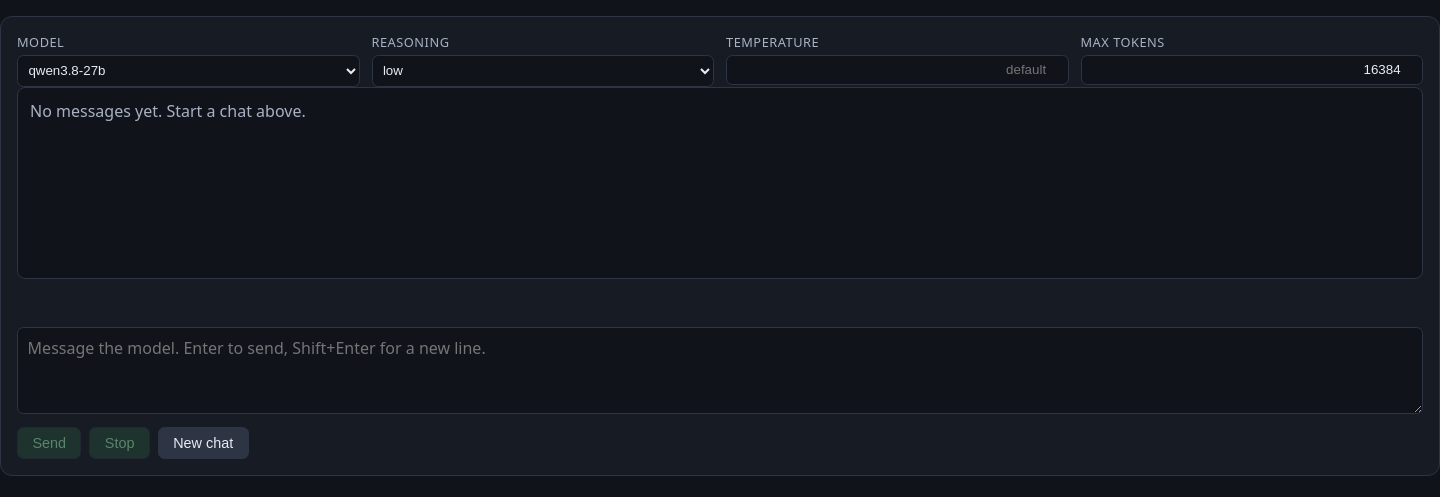
Scenario: ChatPlayground › recovers from a non-SSE validation error and clears generating
Replace the text in the text box with test id "prompt-input" with "Go": (720, 370) [17,327,1423,414]
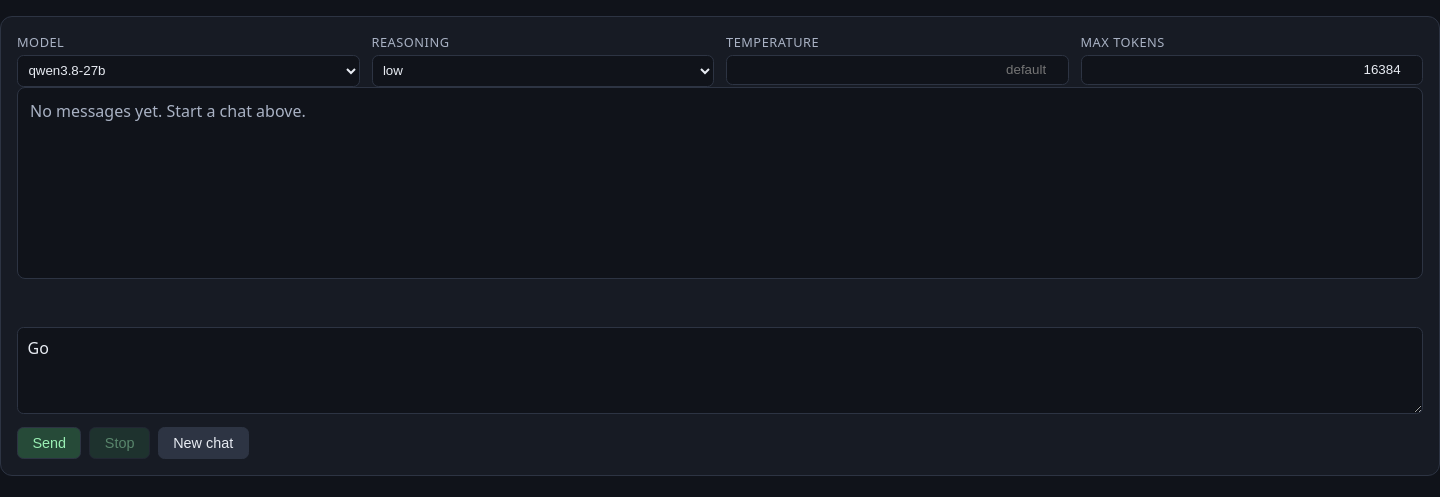
Click the button with test id "send-button": (49, 443) [17,427,81,459]
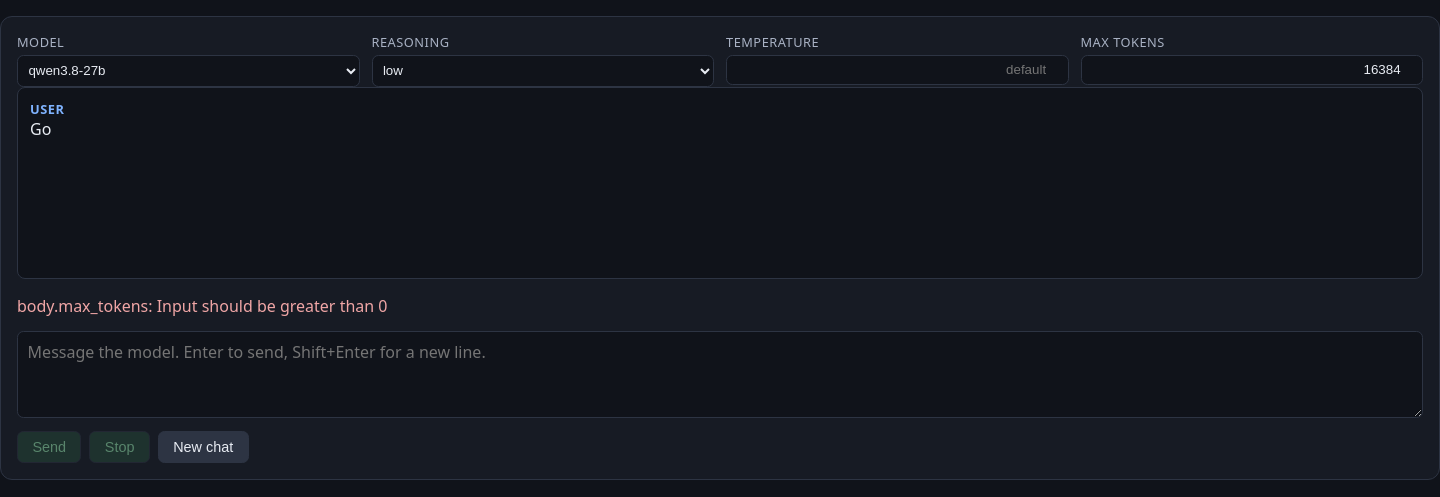
Check: the text with test id "error-banner" shows "max_tokens: Input should be greater than 0", box [17,295,388,317]
